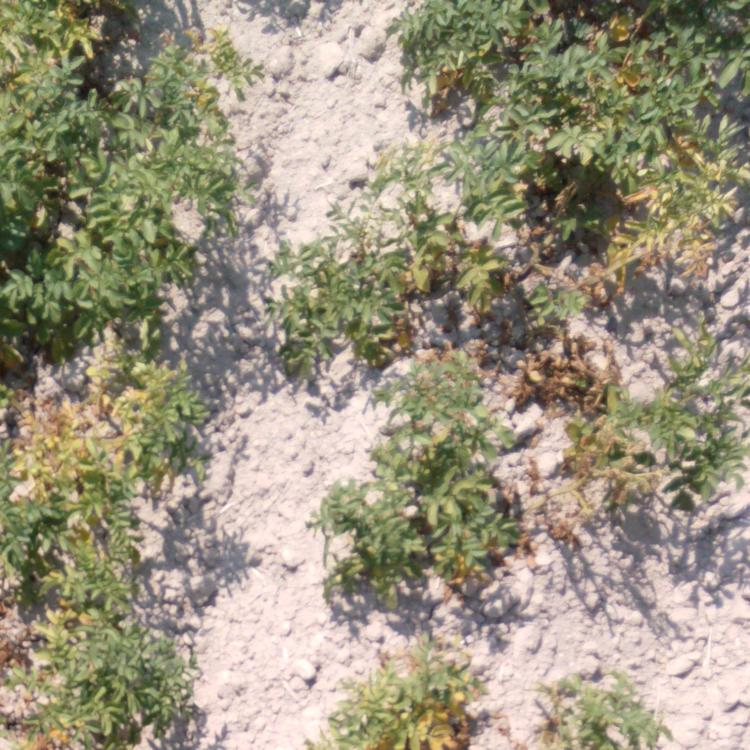healthy: (106, 36, 257, 202), (1, 150, 88, 365), (5, 1, 101, 147), (97, 215, 189, 322), (389, 2, 528, 52)
stressed: (313, 469, 568, 600), (280, 230, 505, 373), (516, 173, 748, 304), (539, 5, 730, 158), (13, 600, 194, 750), (1, 367, 205, 496), (380, 62, 505, 219), (316, 638, 487, 744), (573, 398, 743, 498), (1, 498, 124, 596), (532, 665, 668, 750), (383, 377, 502, 469), (508, 339, 638, 403), (651, 300, 750, 382), (108, 322, 188, 358)
